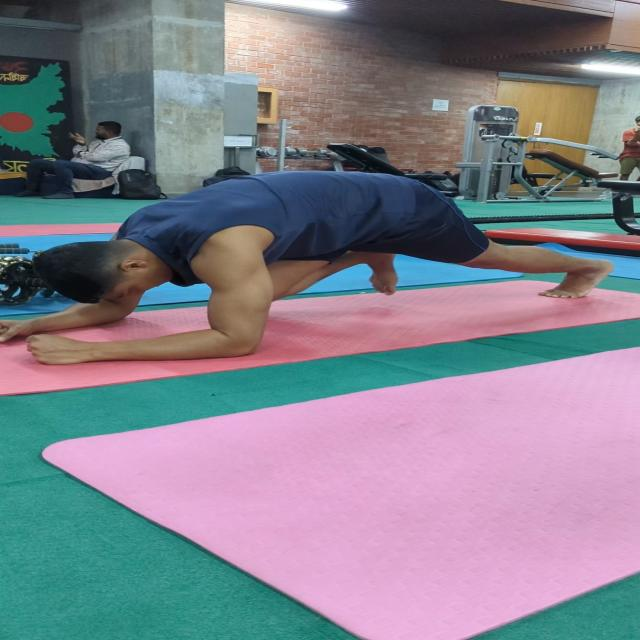Normal_MountainClimbers: (0, 139, 636, 369)
